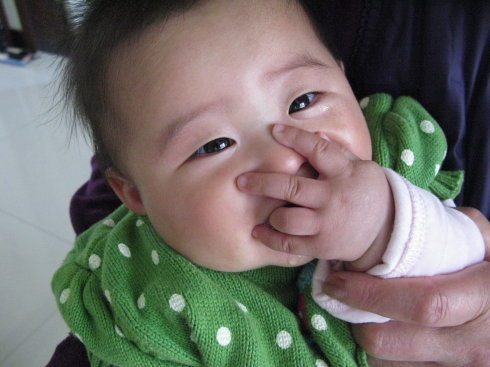face: (143, 7, 372, 270)
